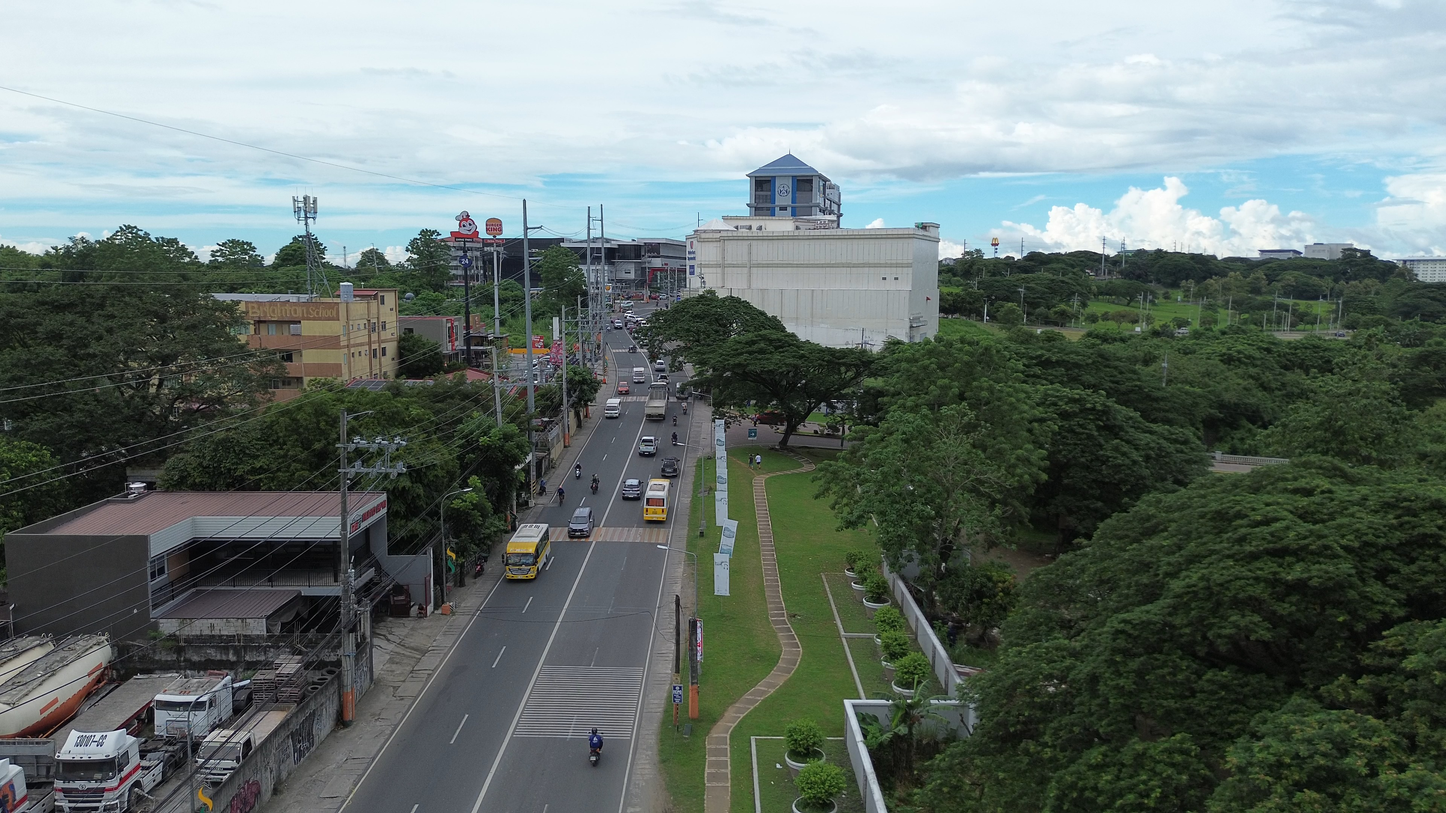bus: (643, 478, 670, 521)
car: (621, 478, 642, 499), (653, 359, 667, 372), (616, 382, 630, 395), (655, 373, 669, 381), (627, 344, 637, 352)
motorcycle: (589, 748, 601, 767), (590, 478, 599, 494), (574, 465, 582, 478)
truck: (0, 675, 176, 813), (195, 704, 293, 787), (0, 758, 52, 813)
vehicle: (0, 634, 114, 737), (55, 731, 165, 813), (195, 705, 293, 787), (153, 671, 233, 740), (0, 759, 50, 813), (505, 523, 550, 579), (645, 382, 668, 420), (568, 506, 593, 538), (754, 410, 786, 425), (660, 456, 680, 477), (639, 436, 657, 456), (604, 398, 621, 418), (674, 380, 689, 400), (632, 367, 648, 383), (653, 359, 667, 372), (616, 382, 630, 395), (655, 372, 669, 382), (620, 300, 632, 311), (611, 319, 623, 329)
